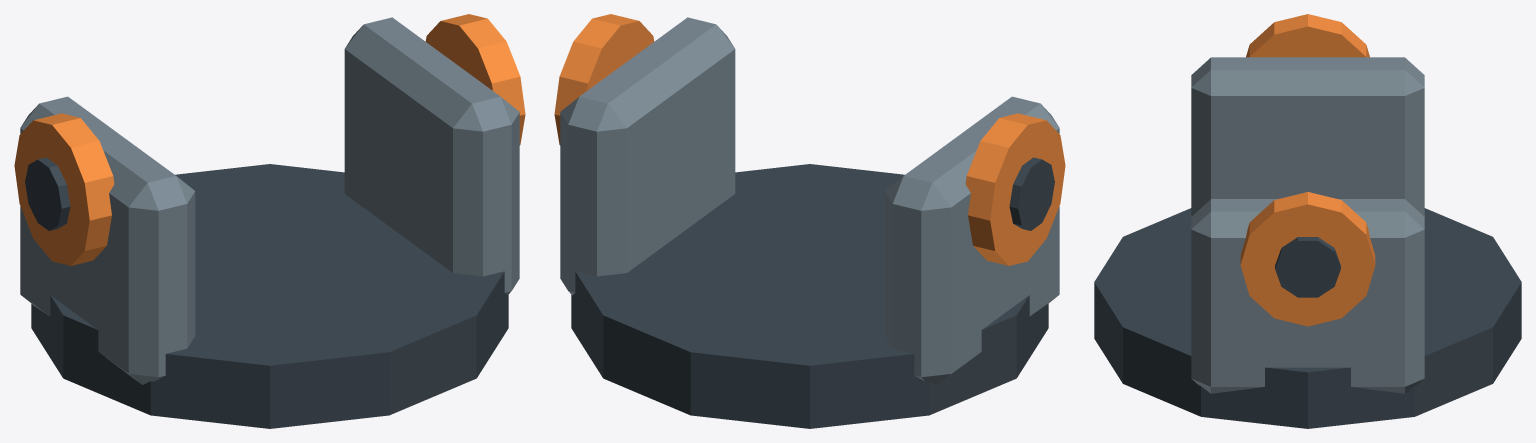
Rendered from TurretYaw.obj.
3 views of the same model, side by side, from view 1: azimuth 30°, elevation 25°; view 2: azimuth 150°, elevation 25°; view 3: azimuth 270°, elevation 25° (orthographic). The views are drawn at different scales.
Parts seen in each view (by area): view 1: TurretYaw; view 2: TurretYaw; view 3: TurretYaw.
Boxes of the visible parts, x1=… form: TurretYaw: x1=14, y1=14, x2=525, y2=428; TurretYaw: x1=554, y1=14, x2=1065, y2=428; TurretYaw: x1=1094, y1=14, x2=1521, y2=428.
Bounding box in the file's own units: 1.42 × 0.77 × 1.3.
Materials: 3 (3 with a texture image).
